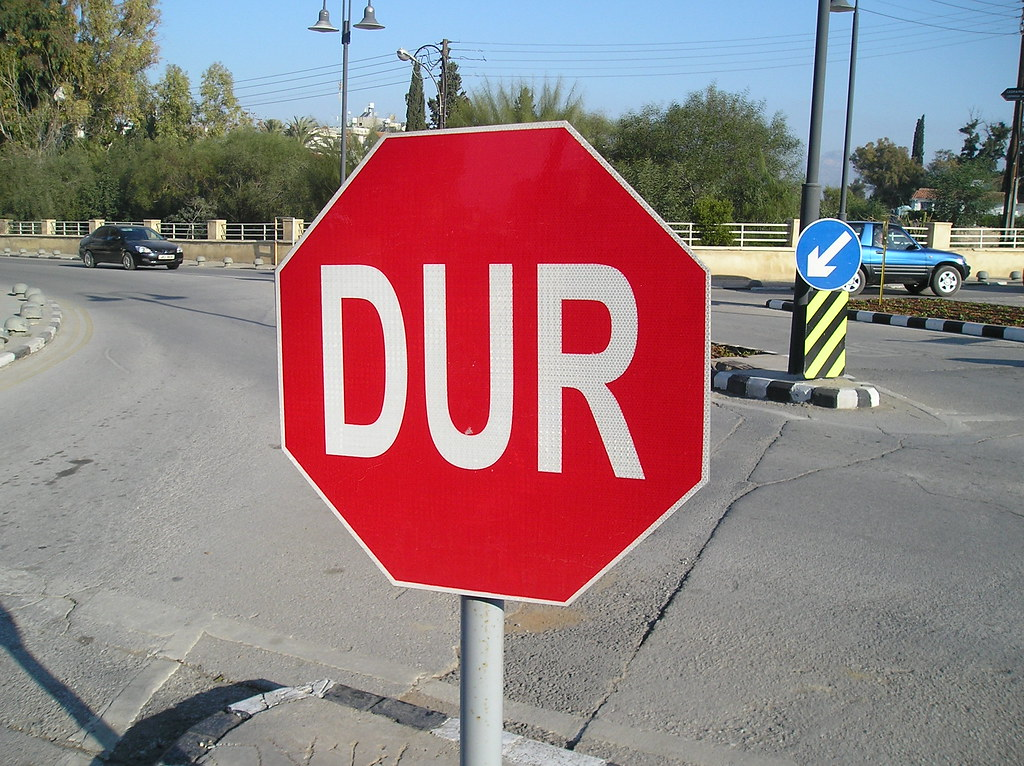dur: (265, 125, 707, 606)
otomobil: (827, 211, 980, 307), (67, 212, 196, 289)
